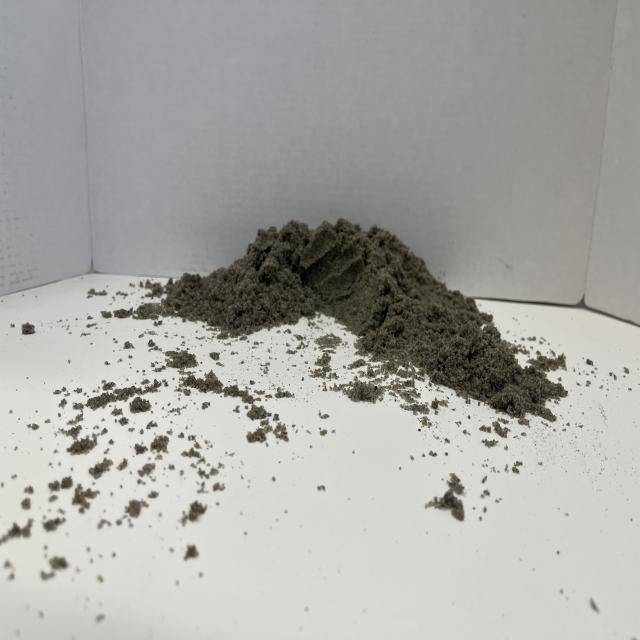sand: (181, 205, 507, 378)
